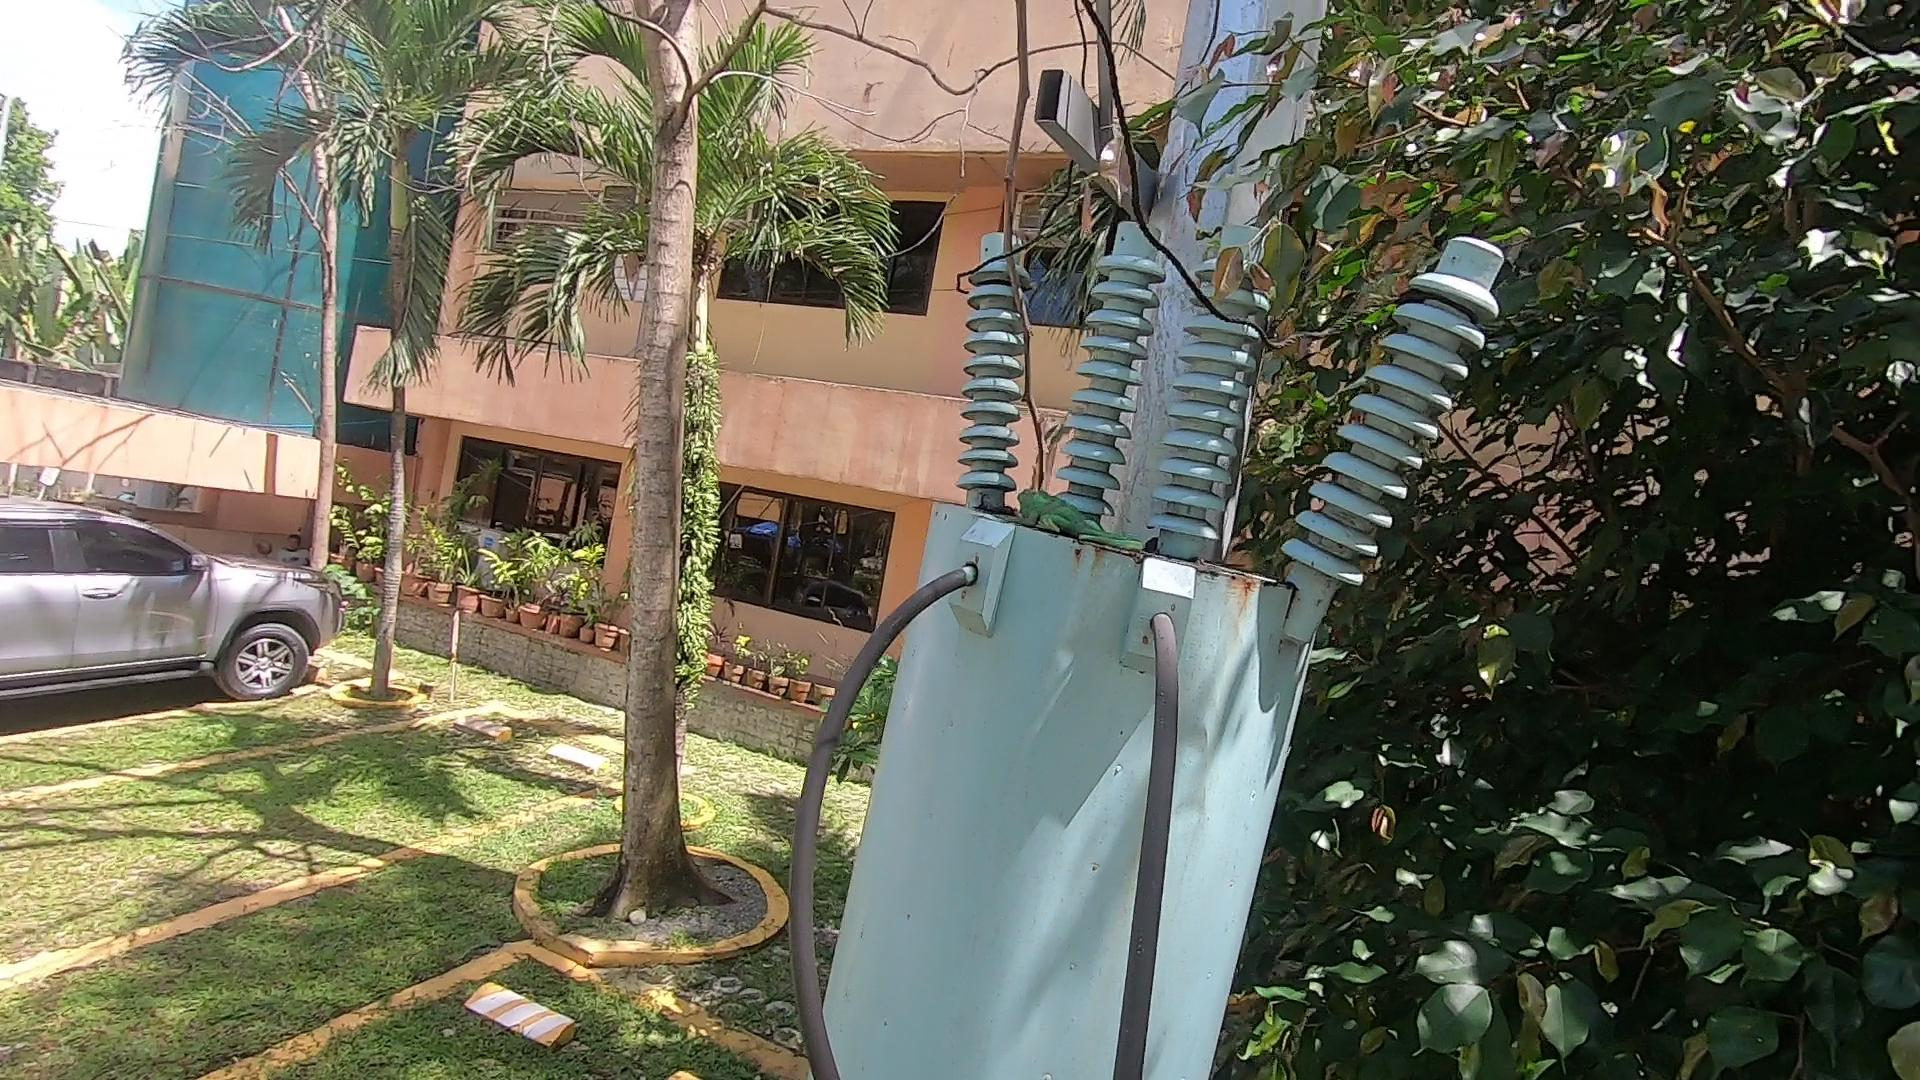branch with leaves: (1182, 157, 1385, 344)
leaf: (965, 498, 1015, 531), (1122, 527, 1170, 555)
tree branch: (957, 12, 1142, 539)
